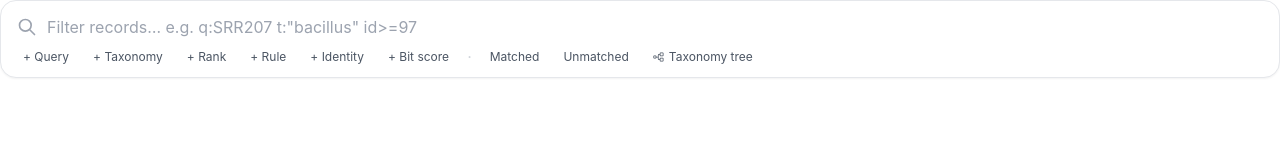
FilterBar › '+ Query' inserts q: into the box and focuses it
Click the button "+ Query" at (46, 57), box [13, 47, 79, 67]
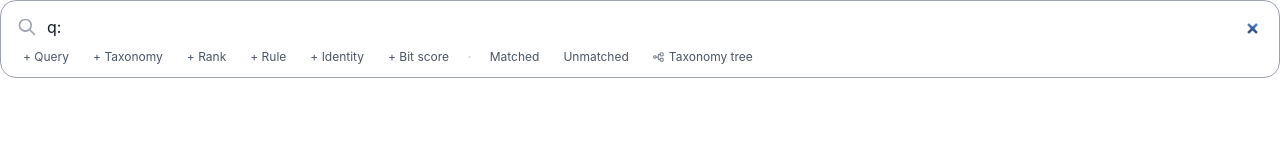
Check: the dropdown named "Filter records" holds "q:", box [45, 13, 1263, 41]
